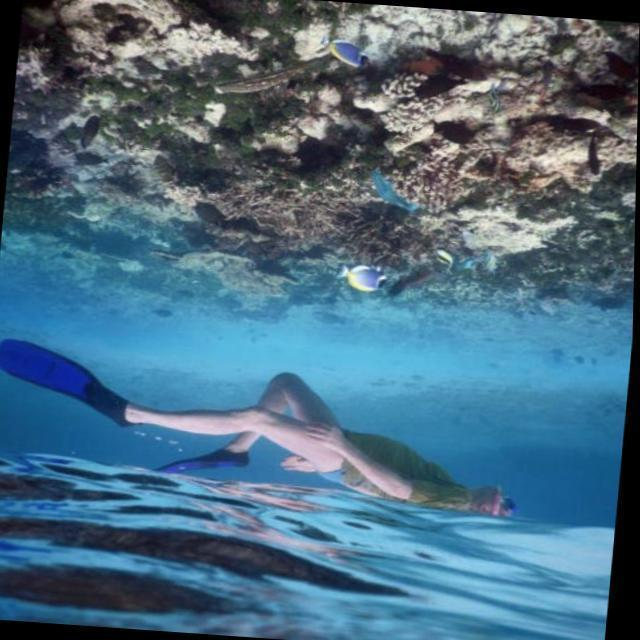Dead Coral: (190, 179, 440, 265)
